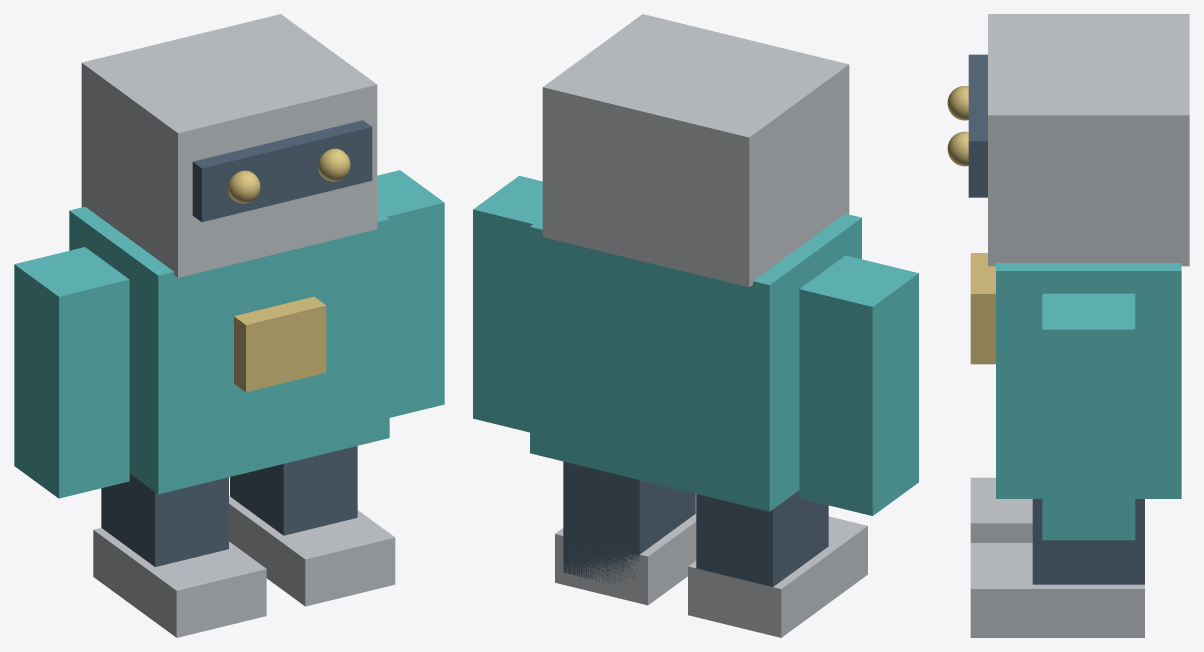
File: robot.glb
3 views of the same model, side by side, from view 1: azimuth 30°, elevation 25°; view 2: azimuth 150°, elevation 25°; view 3: azimuth 270°, elevation 25° (orthographic). The views are drawn at different scales.
Size of the model in its own units: 1.2 by 1.48 by 0.625.
